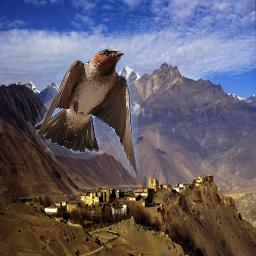Swallow: (35, 48, 138, 177)
